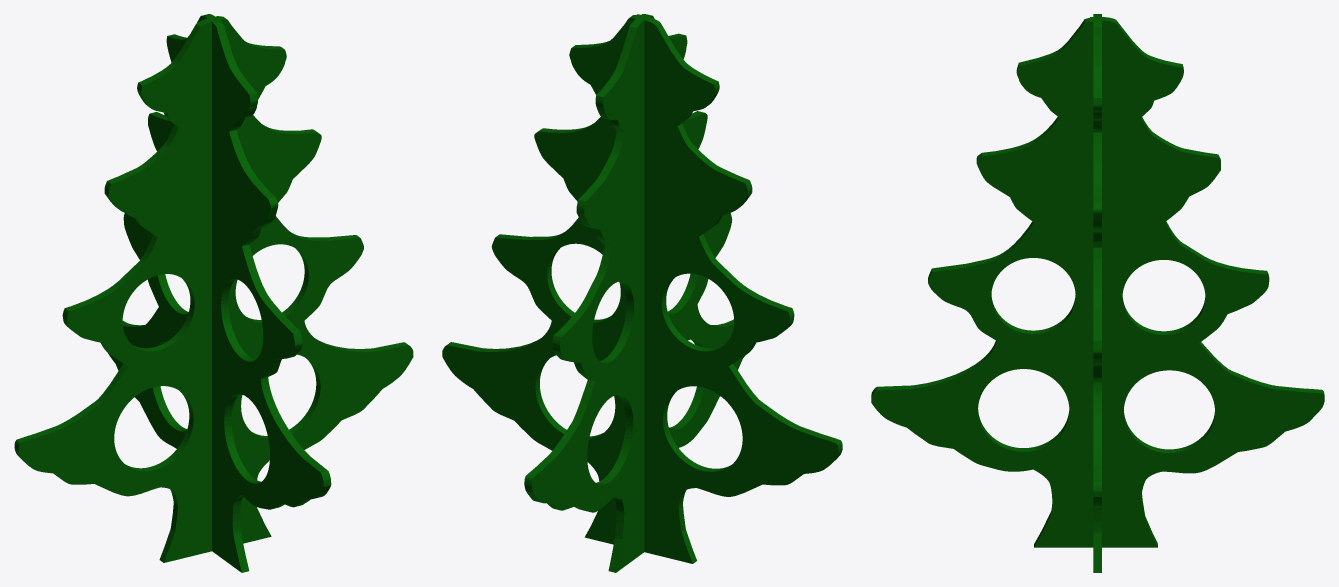
The model's file is small tree1.fbx.
The picture shows the model from 3 angles, left to right: view 1: azimuth 30°, elevation 25°; view 2: azimuth 150°, elevation 25°; view 3: azimuth 270°, elevation 25°; orthographic projection.
Visible parts, largest first — view 1: ChristmasTree; view 2: ChristmasTree; view 3: ChristmasTree.
Boxes of the visible parts, x1,y1,x2,y2 form: ChristmasTree: (14,14,413,572); ChristmasTree: (442,14,842,572); ChristmasTree: (871,14,1324,572).
Bounding box in the file's own units: 212 × 272 × 212.
